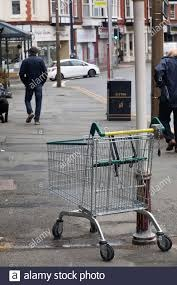with_basket: (47, 119, 167, 256)
